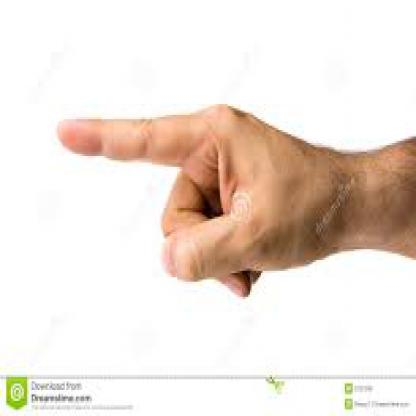Right: (57, 105, 292, 285)
